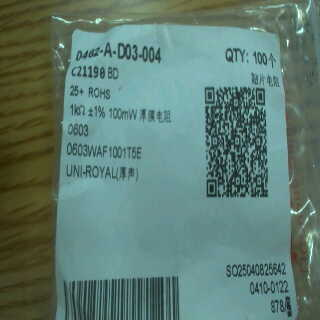1kR: (68, 101, 89, 118)
